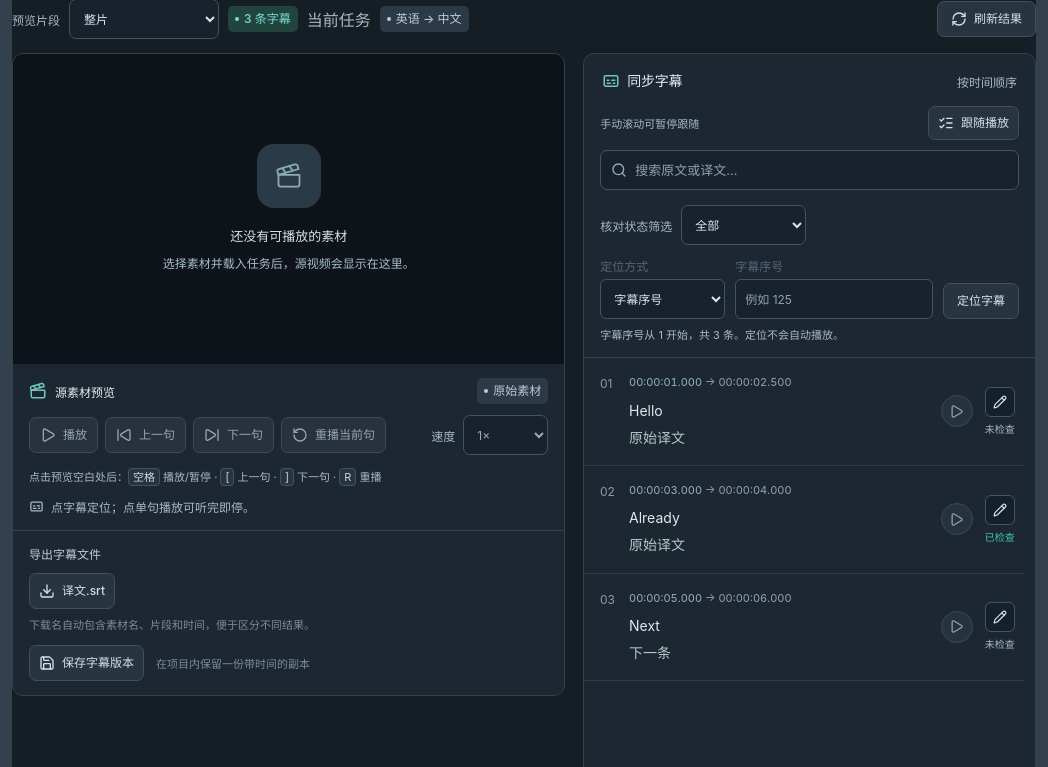
Test case: 连续人工核对 › keeps the current edited cue after 版本冲突，请刷新 without retrying
Click the button named "编辑第 1 句" at (1000, 402), box [985, 386, 1015, 416]
(page scrolled)
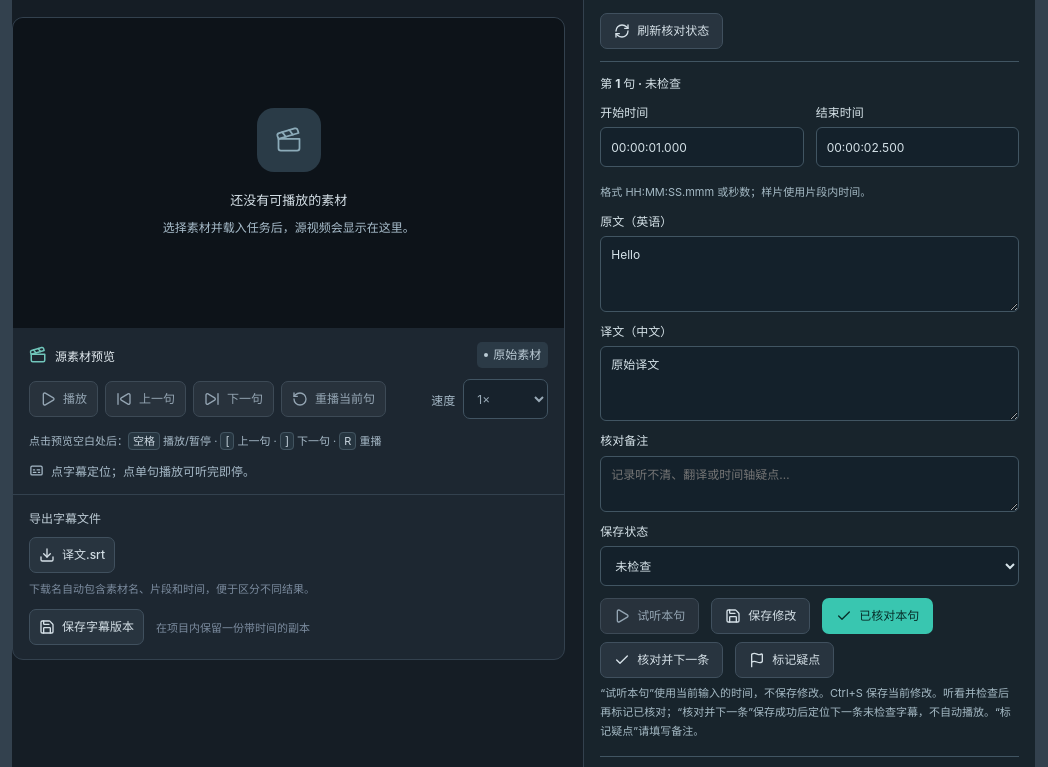
Replace the text in the text box labelled "译文（中文）" with "保留这次修改" at (810, 384), box [600, 346, 1019, 422]
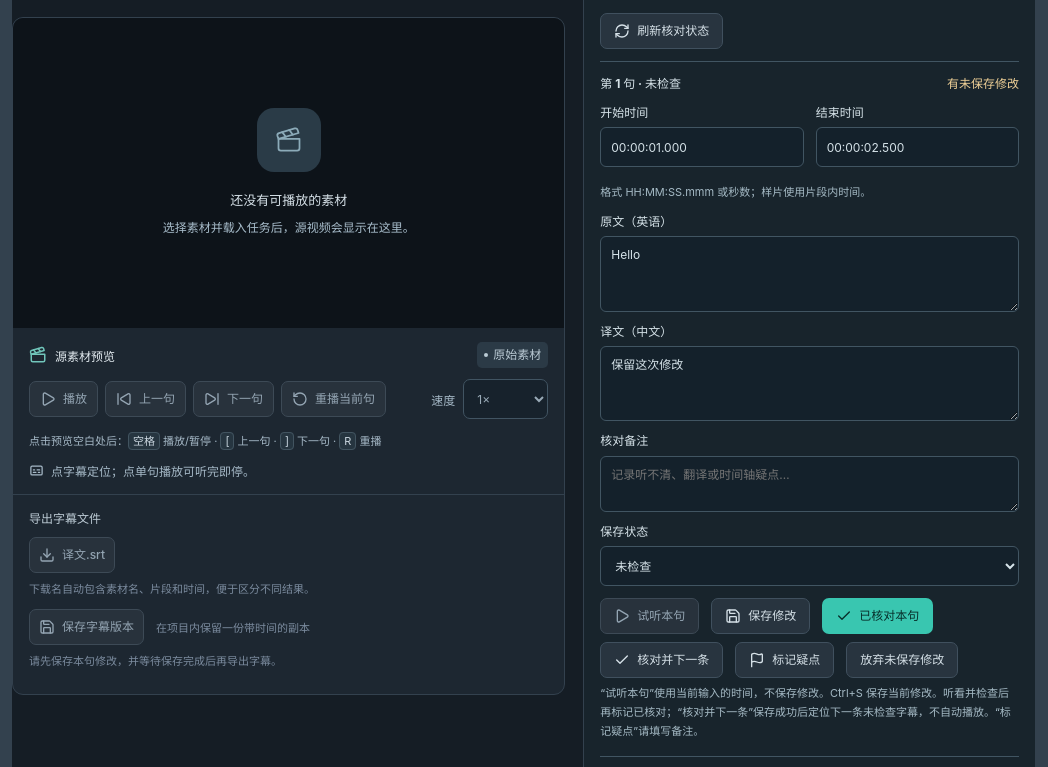
Click the button "核对并下一条" at (662, 660), box [600, 642, 723, 678]
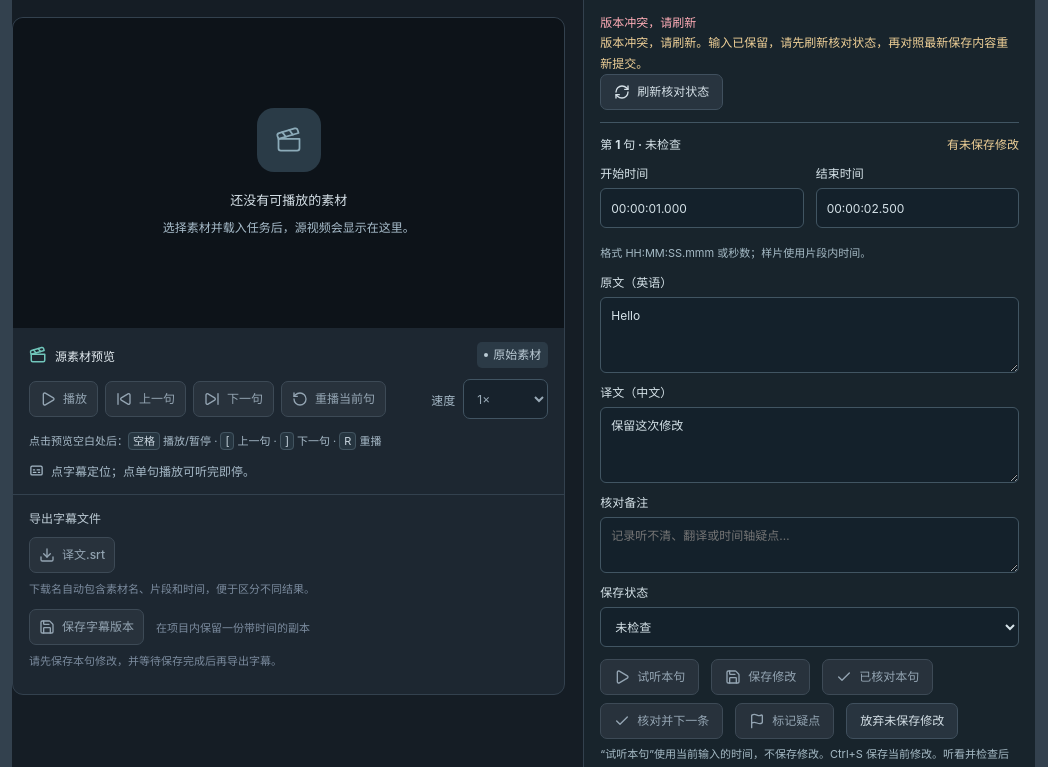
Expected: the message reads "版本冲突，请刷新", [600, 15, 696, 30]
